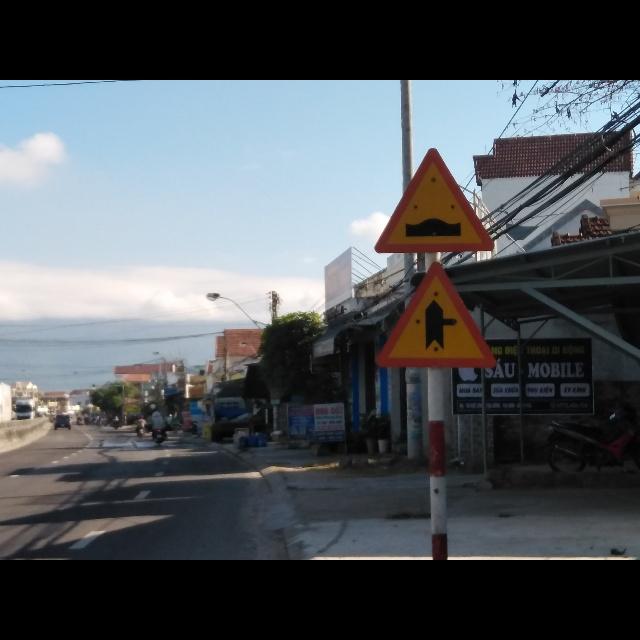Giao nhau với đường không ưu tiên: (374, 264, 499, 368)
Đường không bằng phẳng: (376, 144, 496, 257)
